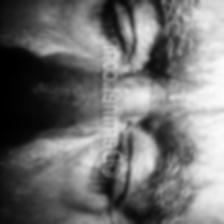Non-Cancerous Skin Condition: (164, 29, 224, 188)
